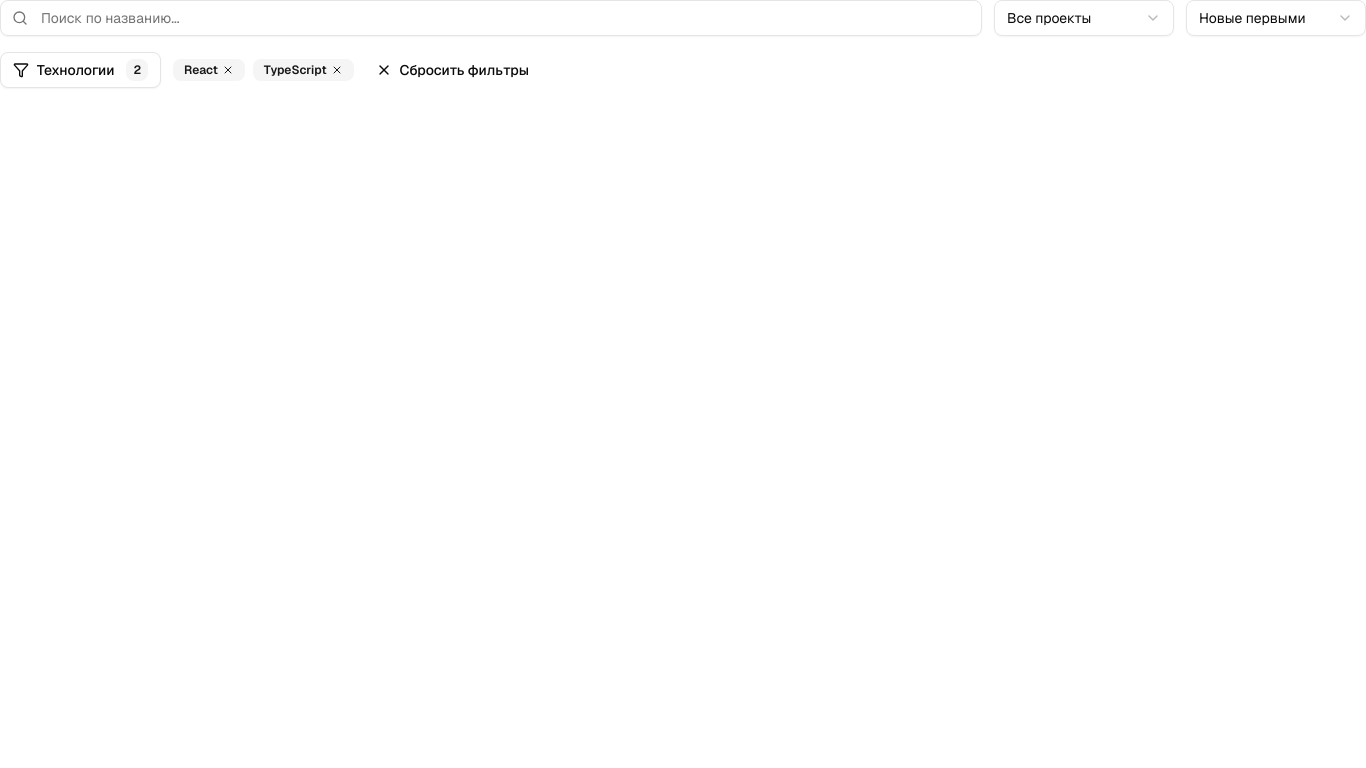
ProjectsFilters › Фильтр по технологиям › PopoverContent › Checkbox checked если технология в selectedTechnologies
Click the button "Технологии 2". click: click(81, 70)
box: [0,52,161,88]
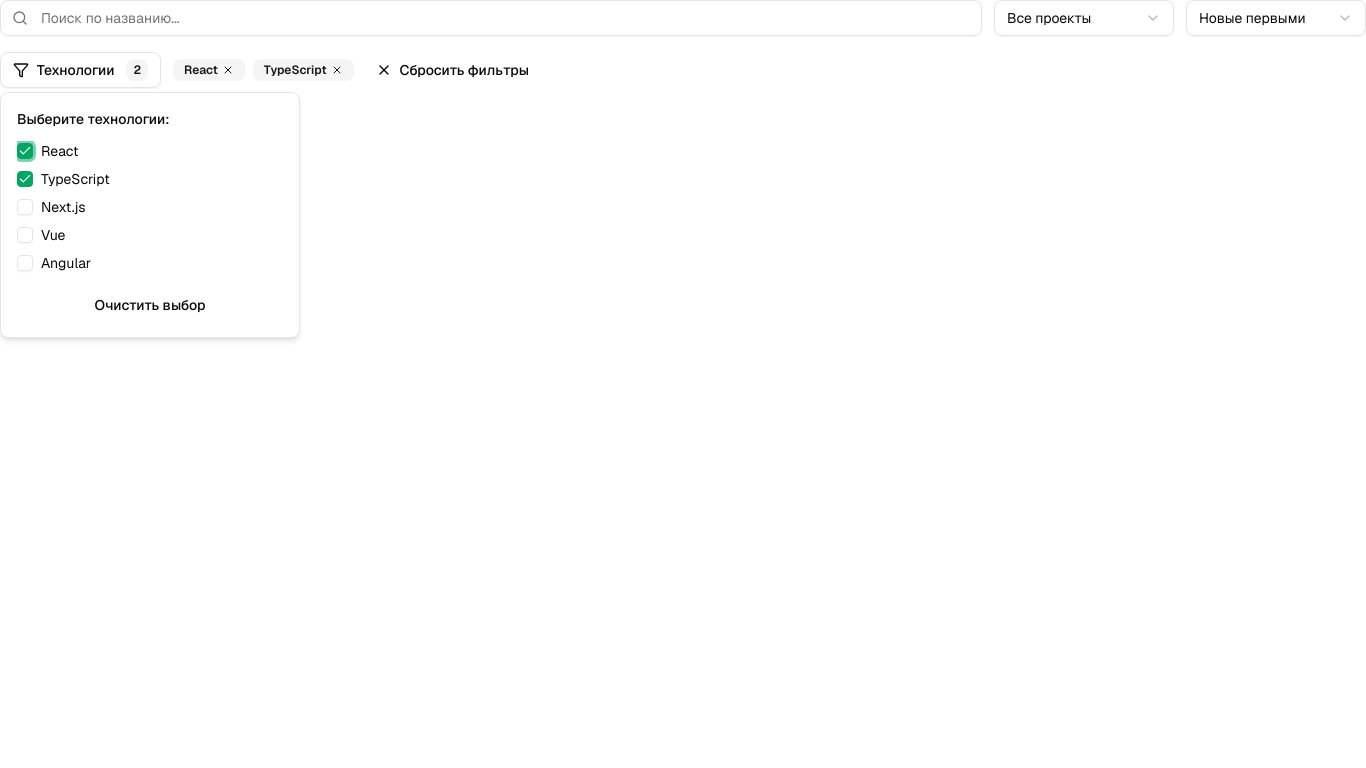
Expected: the 1st checkbox named "React" is checked, [17,143,33,159]
Expected: the 2nd checkbox named "TypeScript" is checked, [17,171,33,187]
Expected: the checkbox named "Vue" next to "Vue" is not checked, [17,227,33,243]
